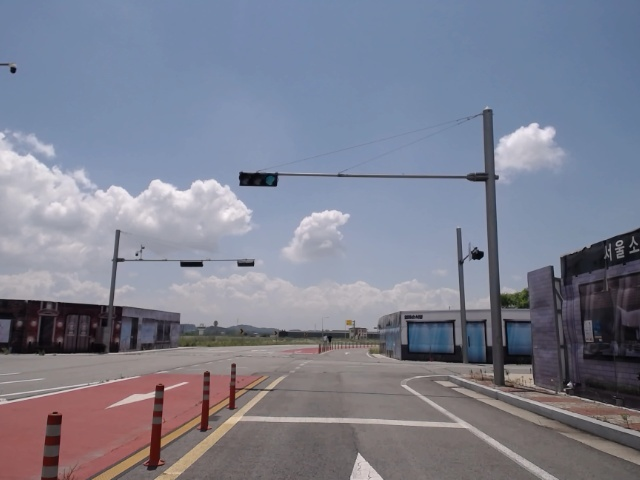green_3: (240, 174, 278, 186)
